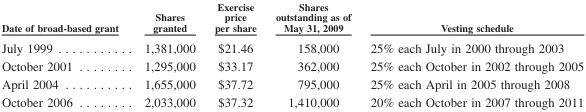table: (0, 0, 583, 108)
table column: (360, 0, 583, 108), (0, 0, 130, 108), (265, 0, 360, 108), (130, 0, 204, 108), (204, 0, 265, 108)
table column header: (0, 0, 583, 36)
table row: (0, 0, 583, 36), (0, 36, 583, 56), (0, 56, 583, 74), (0, 74, 583, 92), (0, 92, 583, 108)
